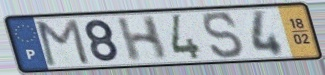4: (250, 8, 286, 58), (169, 12, 205, 62)
8: (84, 18, 122, 64)
H: (114, 14, 170, 64)
M: (35, 17, 93, 68)
S: (201, 10, 247, 61)
